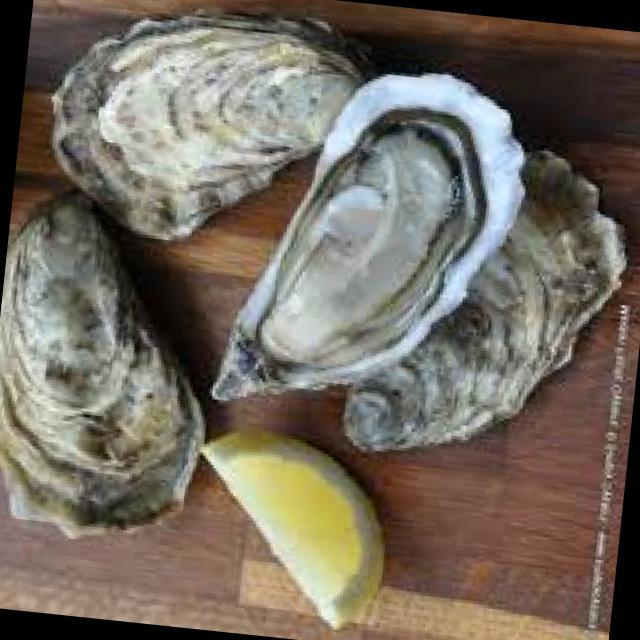Oyster- Indeterminate: (345, 150, 629, 450), (50, 13, 405, 245), (0, 190, 206, 535)
Oyster-Open: (222, 77, 524, 398)
